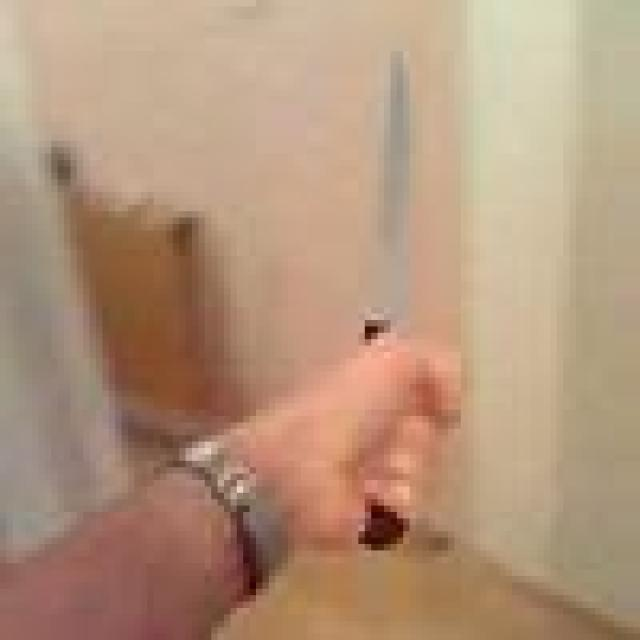Knife: (352, 44, 486, 564)
